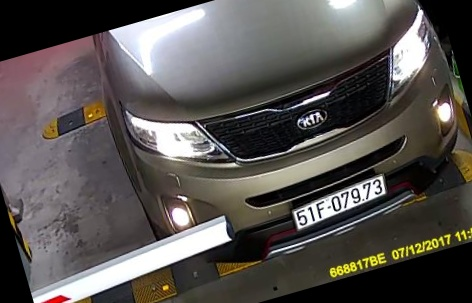plate: (290, 173, 389, 231)
